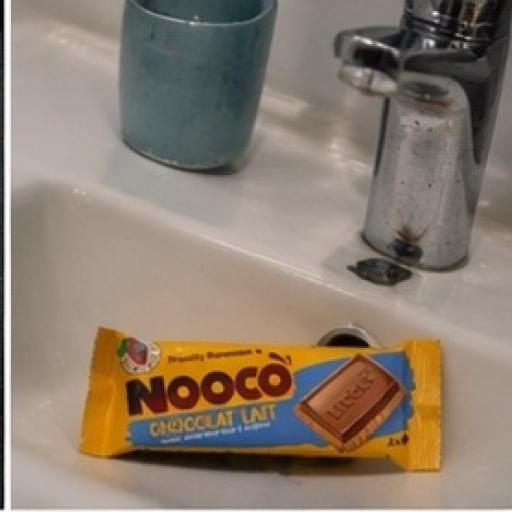biscuit-detection: (51, 252, 483, 493)
